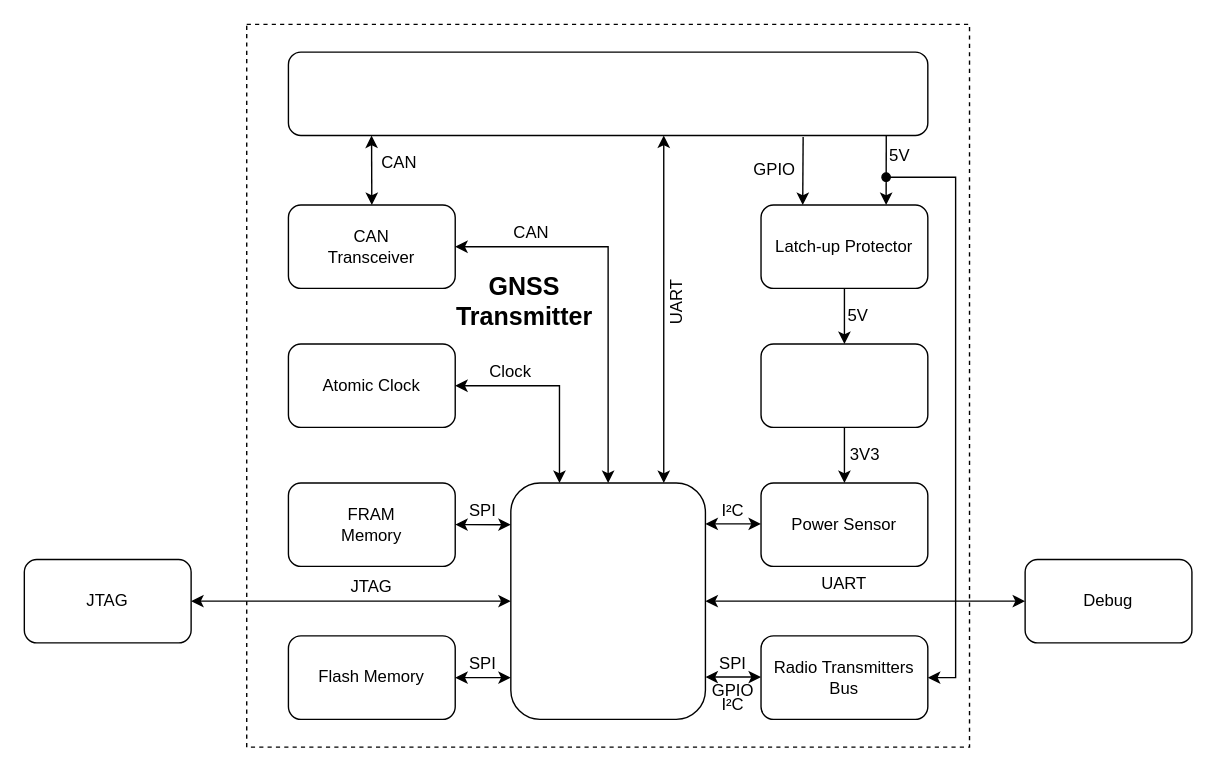
Some shapes in this 1216 by 771 pixel diagram are drawn without their labels. The shapes that lost their labels are listed below. From the top down, each one's centre as x and y in pixels, then its label:
At (x=607, y=93): "PC104 Bus".
At (x=844, y=385): "3V3 DC/DC Converter".
At (x=607, y=600): "SoC".
